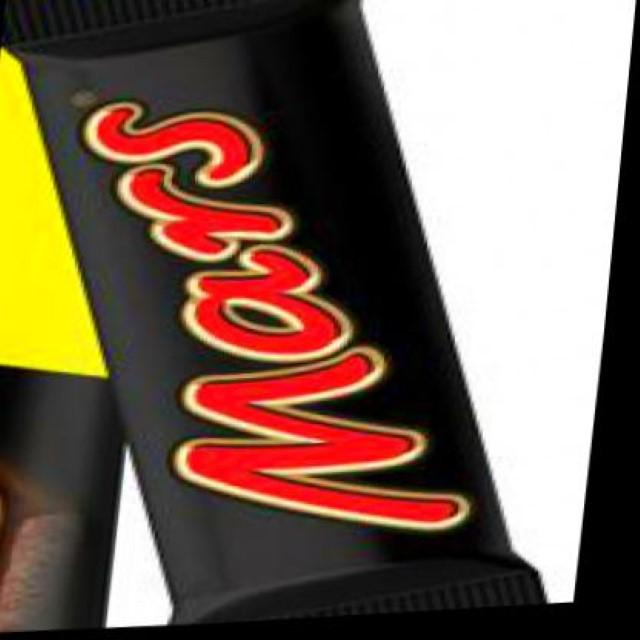mars_chocolate: (58, 23, 538, 640)
